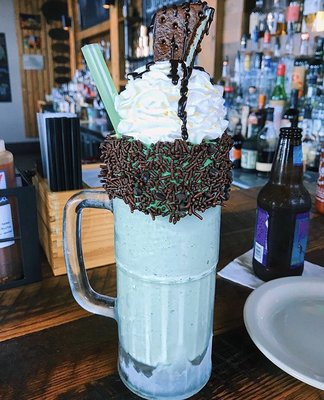pizza: (61, 190, 220, 400), (107, 197, 221, 400)
